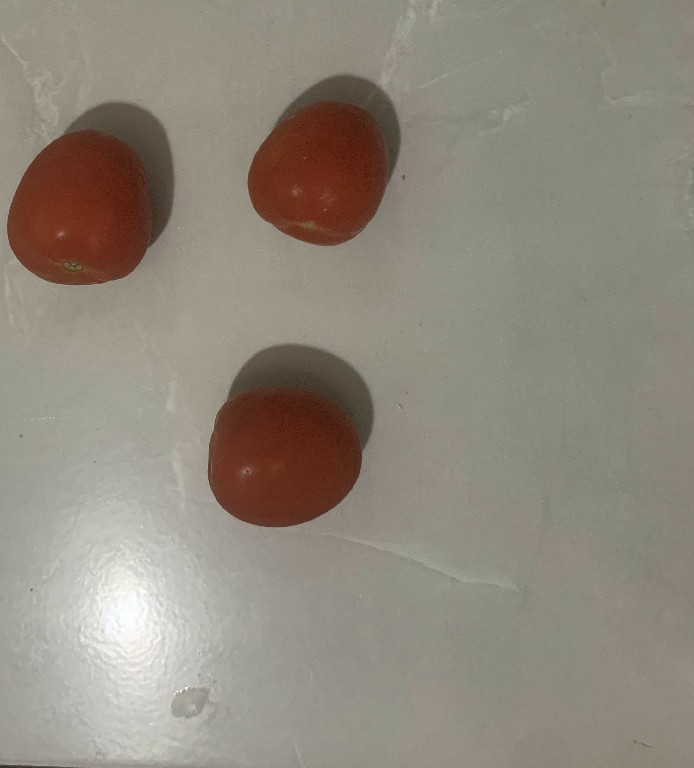OK: (4, 122, 156, 288), (203, 381, 365, 532), (248, 93, 393, 248)
